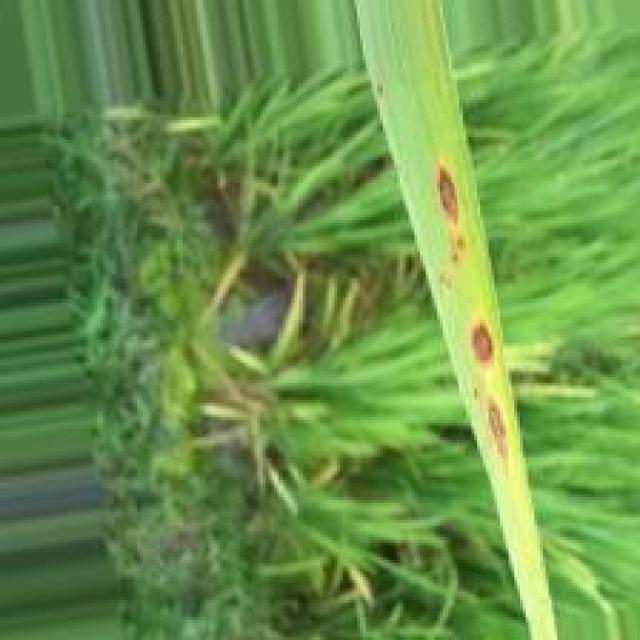Brown_Spot: (482, 393, 509, 465), (434, 161, 461, 230), (468, 313, 498, 370), (452, 235, 468, 250), (447, 250, 461, 267)
